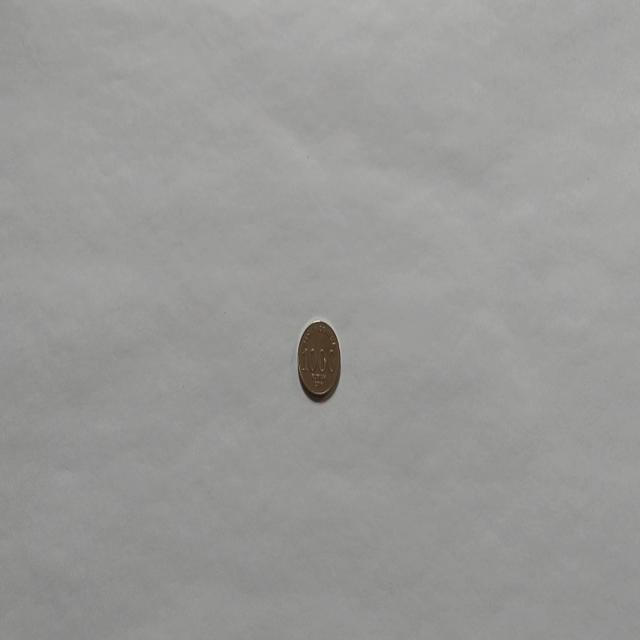seribu rupiah koin: (296, 318, 341, 400)
